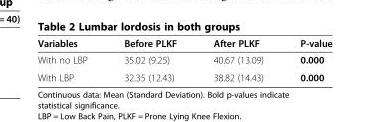table: (36, 37, 331, 82)
table column: (105, 37, 194, 82), (194, 37, 281, 82), (36, 37, 105, 82), (281, 37, 331, 82)
table column header: (36, 37, 331, 51)
table row: (36, 51, 331, 68), (36, 37, 331, 51), (36, 68, 331, 82)
